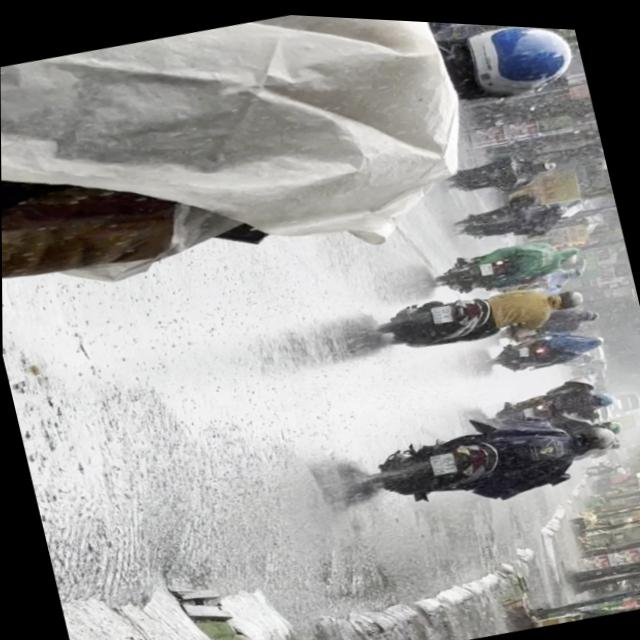helmet: (440, 18, 580, 105), (572, 413, 620, 448), (551, 278, 586, 304)
licenseplate: (0, 0, 612, 345), (352, 380, 631, 528), (369, 254, 593, 363)
nohelmet: (429, 444, 458, 471), (431, 297, 454, 318)
